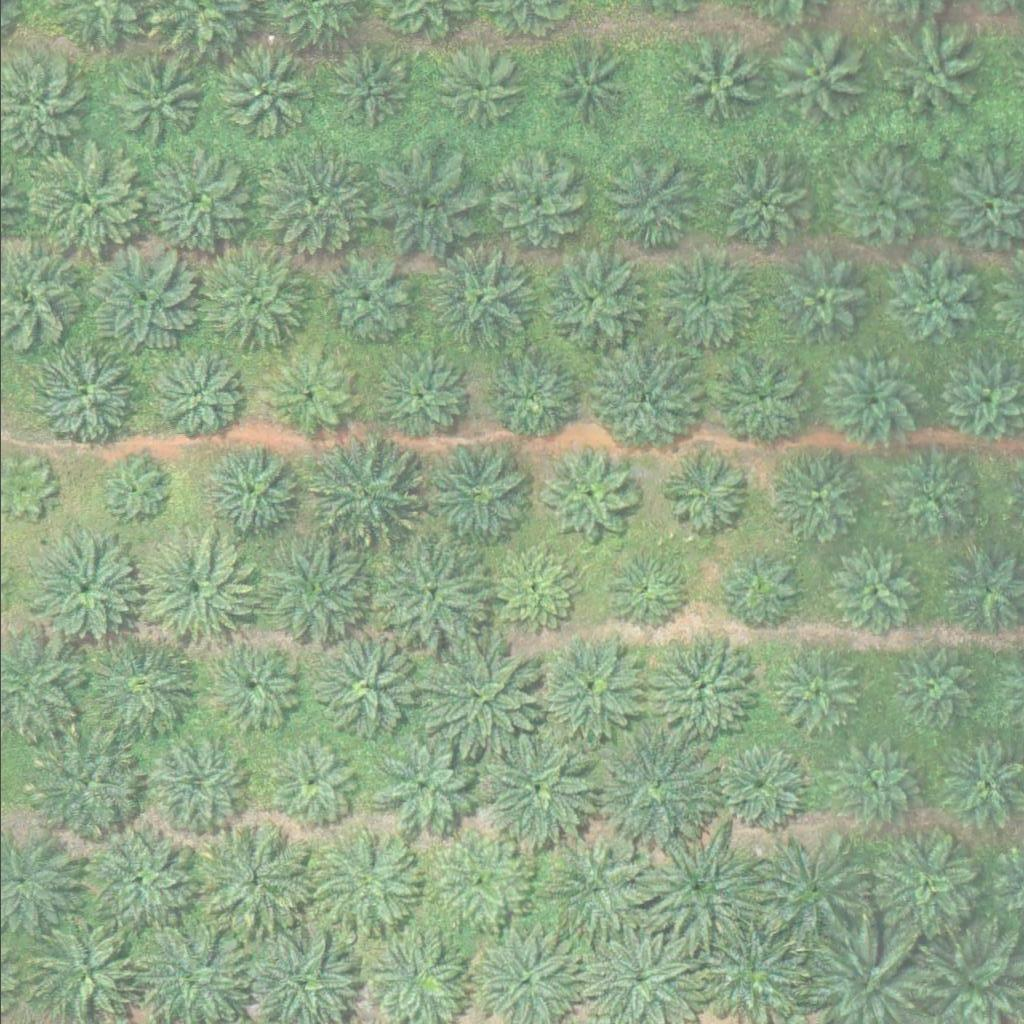Kelapa_Sawit: (533, 244, 647, 357), (587, 344, 701, 457), (417, 441, 531, 554), (304, 433, 418, 546), (253, 150, 366, 263), (134, 145, 247, 258), (196, 439, 309, 552), (134, 531, 247, 644), (645, 630, 758, 743), (529, 631, 642, 744), (596, 734, 709, 847), (478, 732, 591, 845), (306, 828, 419, 941), (197, 820, 310, 933), (78, 825, 191, 938), (23, 533, 136, 646), (30, 143, 143, 256), (372, 539, 486, 651), (260, 536, 374, 648), (192, 633, 306, 745), (23, 727, 137, 839), (80, 630, 194, 742), (867, 829, 980, 941), (753, 836, 866, 948), (818, 346, 931, 458), (374, 150, 487, 262), (427, 243, 540, 355), (196, 240, 309, 352), (423, 640, 536, 752), (310, 634, 423, 746), (638, 831, 751, 943), (536, 833, 649, 945), (24, 342, 137, 454), (83, 242, 196, 354), (881, 447, 982, 547), (768, 448, 869, 548), (880, 251, 981, 351), (531, 36, 632, 136), (213, 43, 314, 143), (490, 152, 591, 252), (319, 249, 420, 349), (373, 733, 474, 833), (427, 829, 528, 929), (104, 49, 205, 149), (834, 155, 934, 255), (712, 155, 812, 255), (879, 26, 979, 126), (765, 30, 865, 130), (604, 160, 704, 260), (656, 252, 756, 352), (482, 346, 582, 446), (368, 346, 468, 446), (536, 443, 636, 543), (145, 736, 245, 836), (830, 739, 918, 827), (713, 744, 801, 832), (888, 641, 976, 729), (148, 351, 236, 439), (657, 450, 745, 538), (603, 548, 691, 636), (489, 545, 577, 633), (770, 648, 859, 735), (830, 548, 919, 635), (322, 46, 411, 133), (773, 256, 861, 343), (718, 356, 806, 443), (436, 49, 524, 136), (264, 351, 352, 438), (715, 546, 803, 633), (267, 742, 355, 829), (675, 50, 751, 125), (100, 462, 163, 525)
